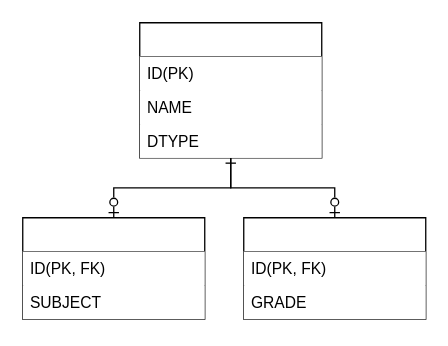
This 448x346 diagram has some shape labels left out. The box of each missing label's shape, as (x1, y1, x2, y2) in pixels:
STUDENT: (242, 216, 426, 319)
TEACHER: (21, 216, 205, 319)
USER: (138, 21, 322, 158)
